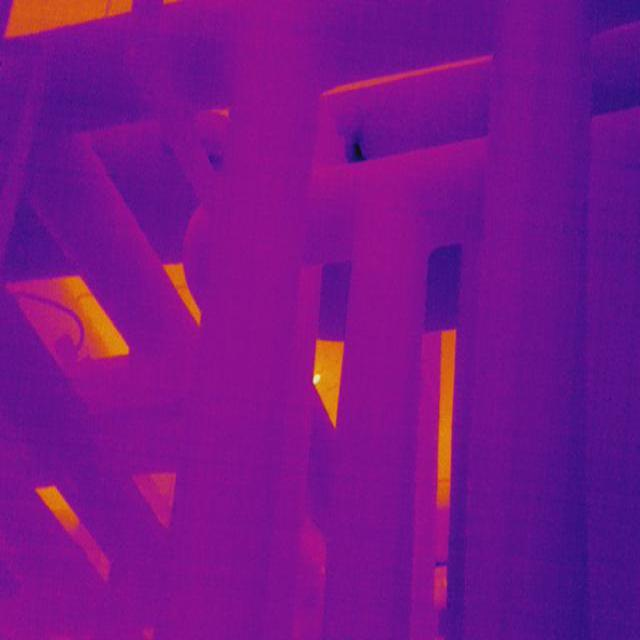leakage: (346, 123, 370, 165)
